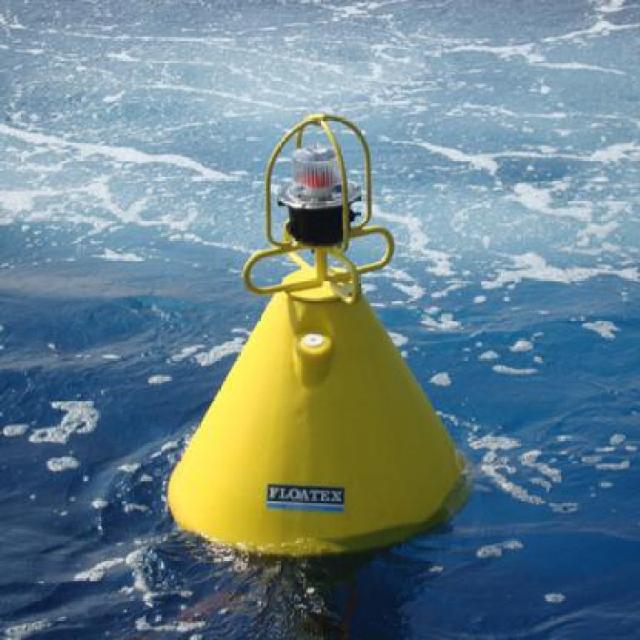a: (154, 93, 497, 561)
